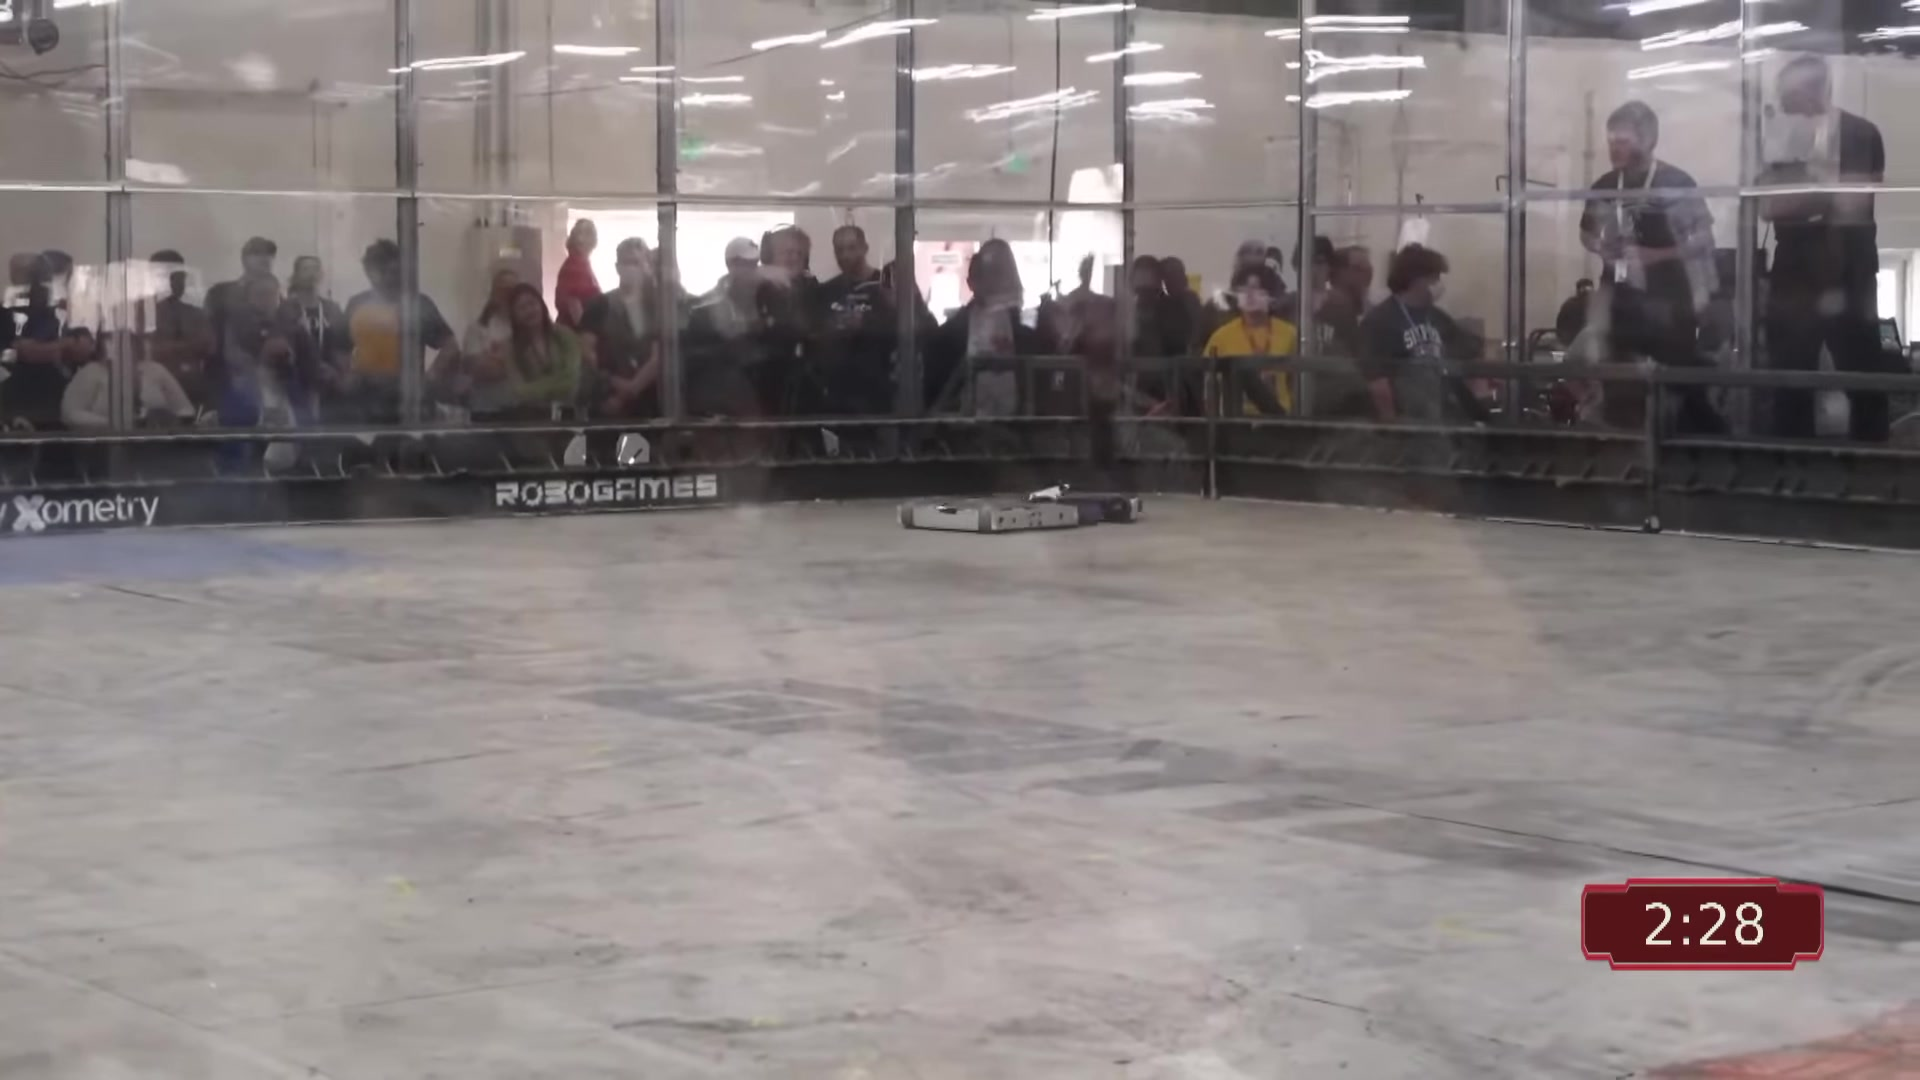combatbot: (899, 497, 1092, 530), (1027, 484, 1147, 524)
